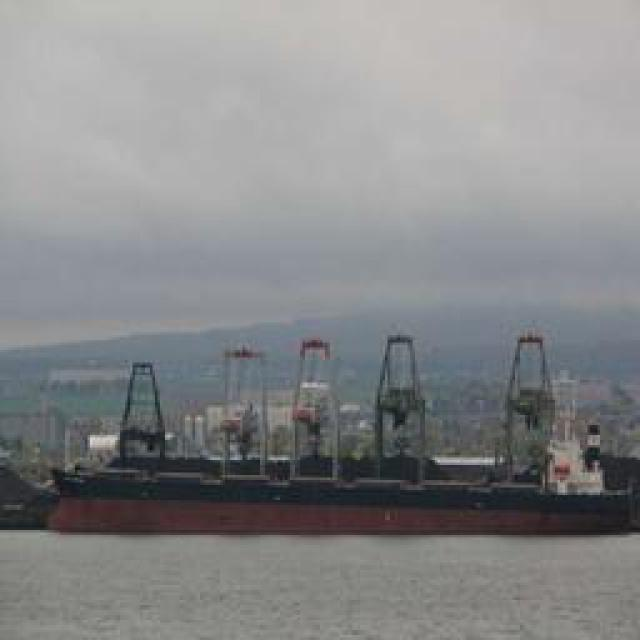Ship: (26, 329, 640, 533)
